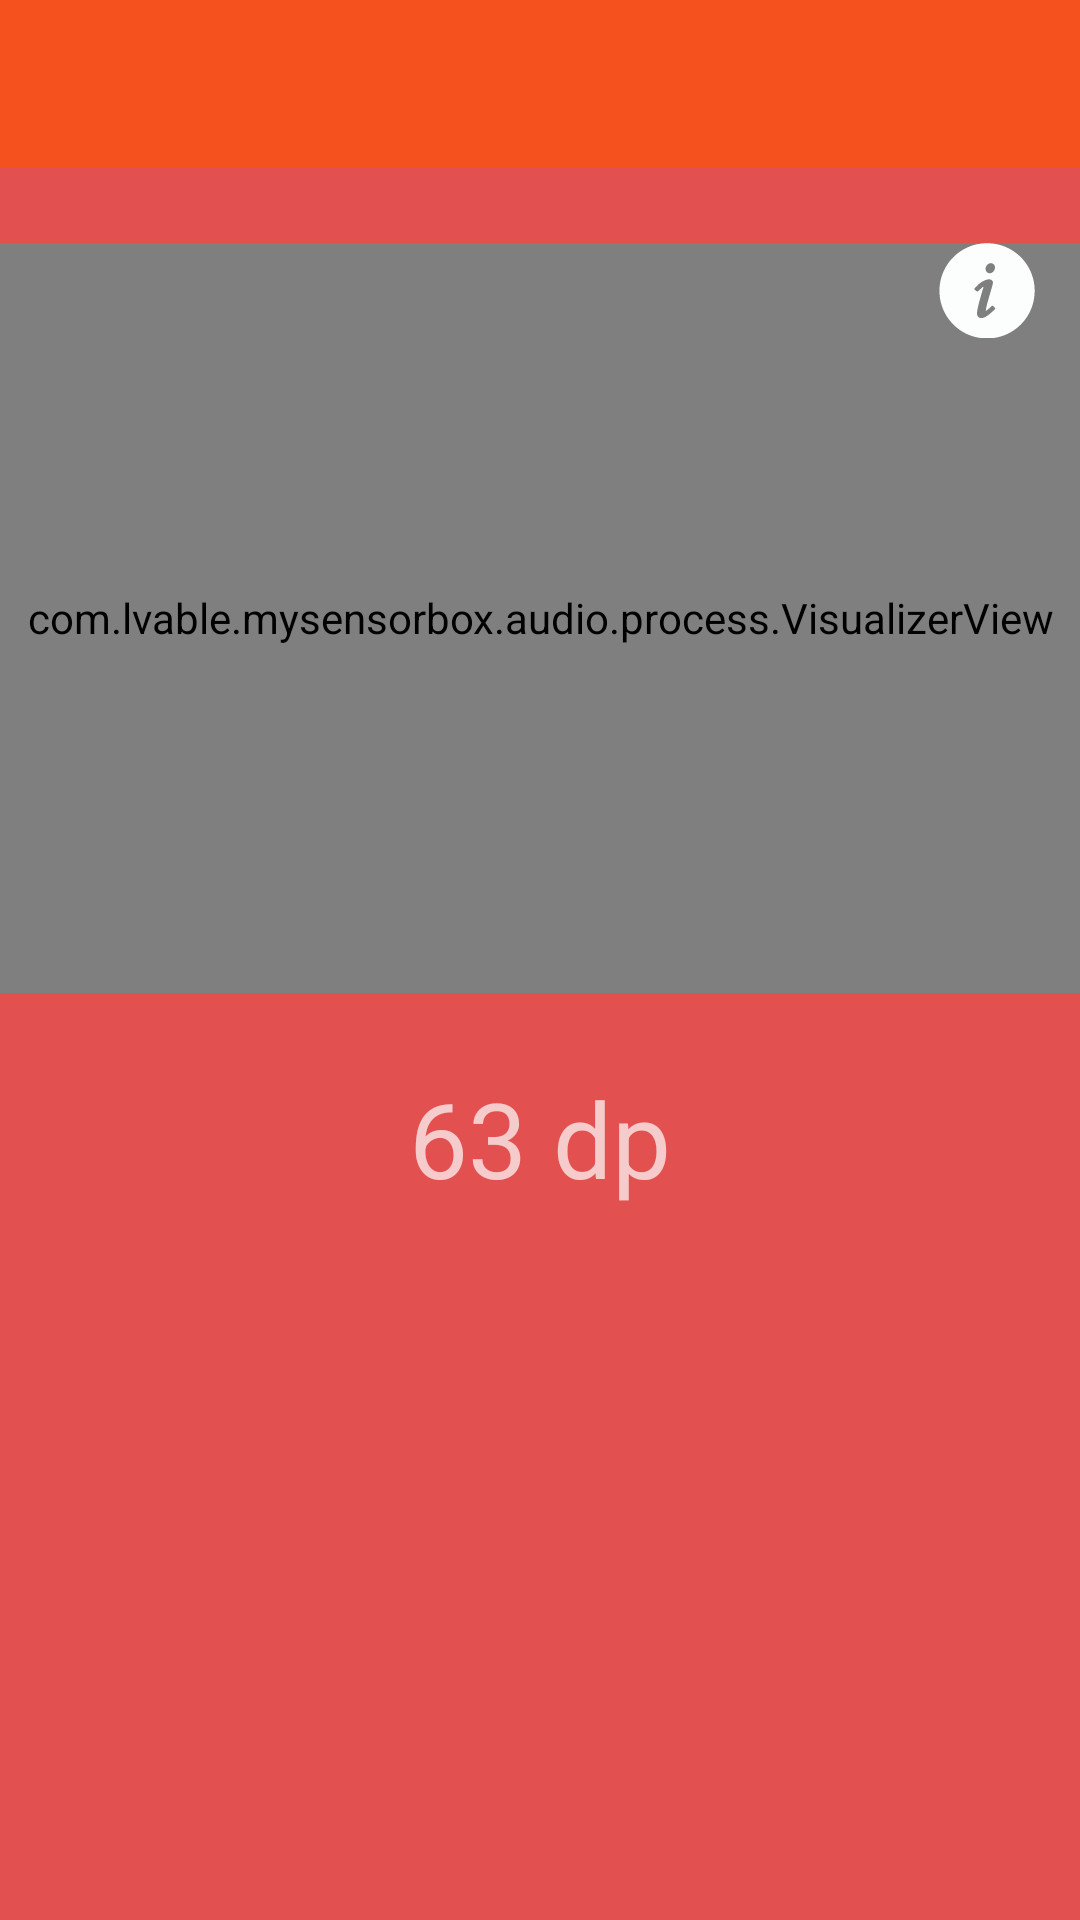

Where icons sit on this 1080x1920 app screen, as (left=x1, top=y1, right=x2, bottom=y2):
info: (left=939, top=243, right=1035, bottom=338)
